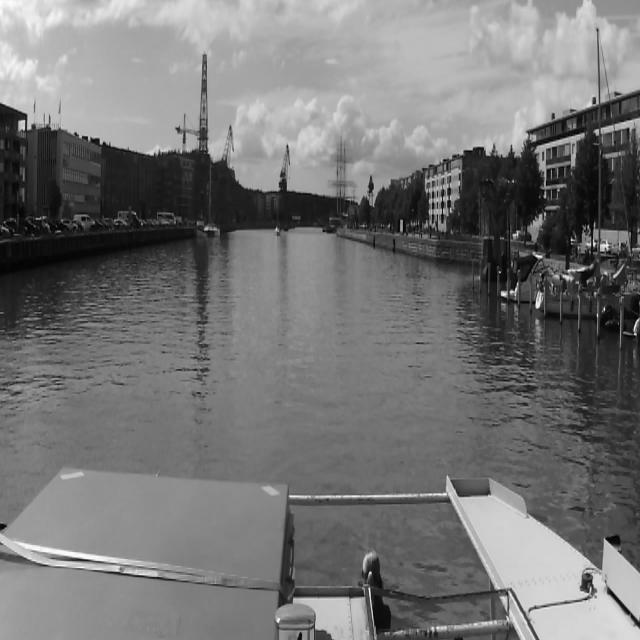ship: (535, 20, 625, 321), (502, 250, 562, 306), (206, 159, 220, 237), (273, 192, 283, 236), (194, 220, 206, 239), (282, 220, 290, 231)
